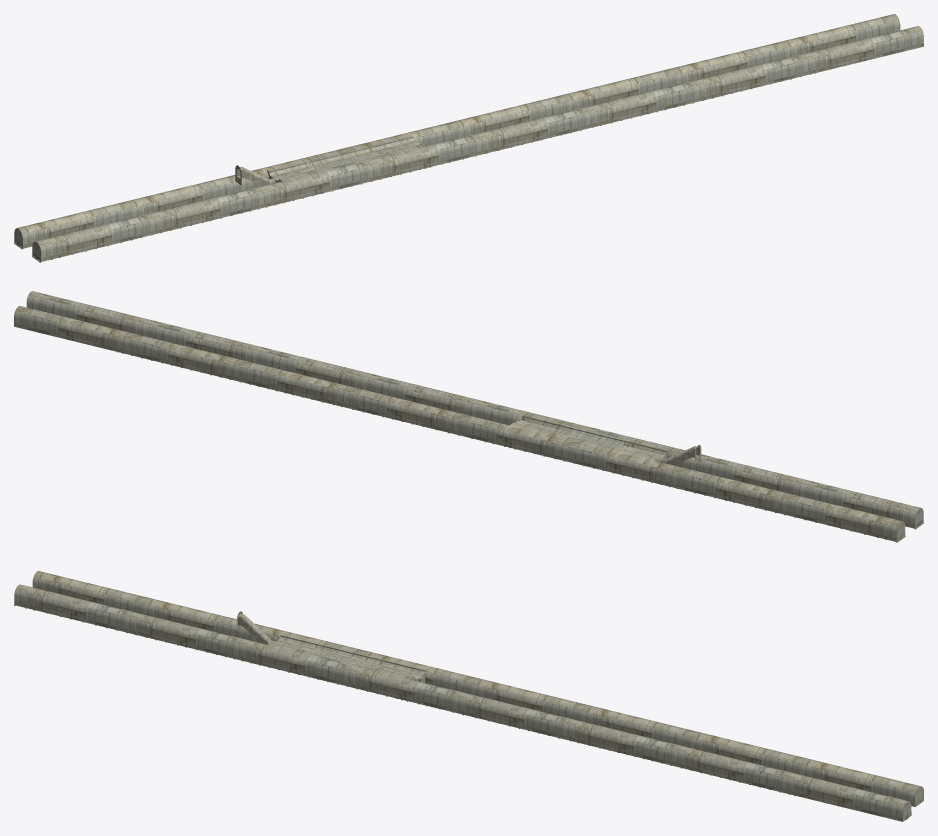
The model's file is SM_Scene_A_Blockout02.fbx.
The picture shows the model from 3 angles, top to bottom: view 1: azimuth 30°, elevation 25°; view 2: azimuth 150°, elevation 25°; view 3: azimuth 330°, elevation 25°; orthographic projection.
Visible parts, largest first — view 1: SM_Scene_A_Blockout02; view 2: SM_Scene_A_Blockout02; view 3: SM_Scene_A_Blockout02.
Part boxes in pixels (<box>): SM_Scene_A_Blockout02: <box>14,14,923,262</box>; SM_Scene_A_Blockout02: <box>14,291,923,542</box>; SM_Scene_A_Blockout02: <box>14,571,923,821</box>.
Size of the model in its own units: 39328 by 1525 by 2051.
